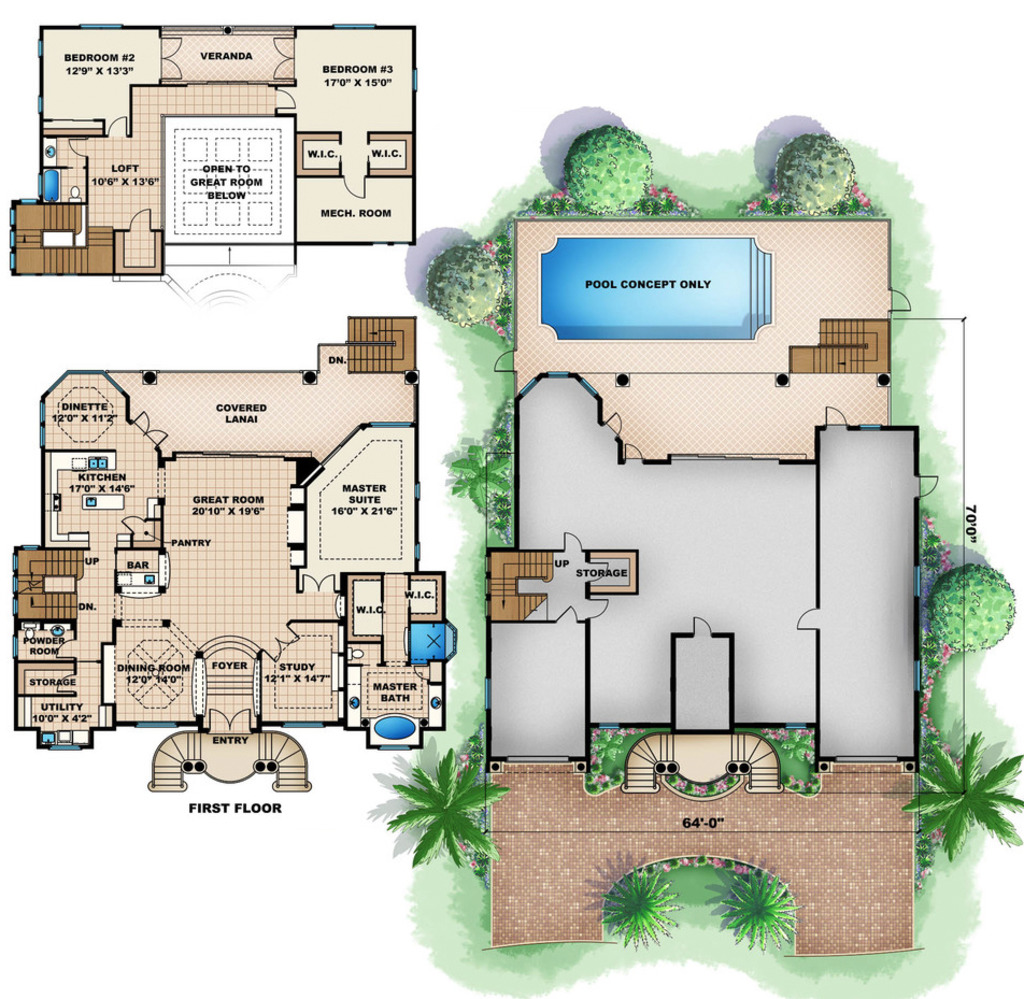door: (207, 708, 260, 739), (272, 34, 301, 84), (160, 33, 188, 82), (267, 625, 302, 662), (136, 410, 166, 448), (341, 171, 369, 201), (800, 604, 825, 636), (300, 572, 335, 594), (272, 88, 302, 113), (126, 206, 152, 232), (429, 680, 442, 726), (823, 404, 845, 431), (917, 471, 939, 497), (689, 613, 710, 640), (554, 602, 577, 626), (562, 529, 583, 552), (121, 514, 146, 533)
small_sink: (426, 682, 444, 727), (349, 680, 365, 727)
stairs: (625, 730, 782, 802), (150, 732, 318, 797), (13, 205, 115, 277), (788, 318, 891, 378), (16, 545, 87, 619), (487, 552, 551, 626), (347, 313, 420, 377)
